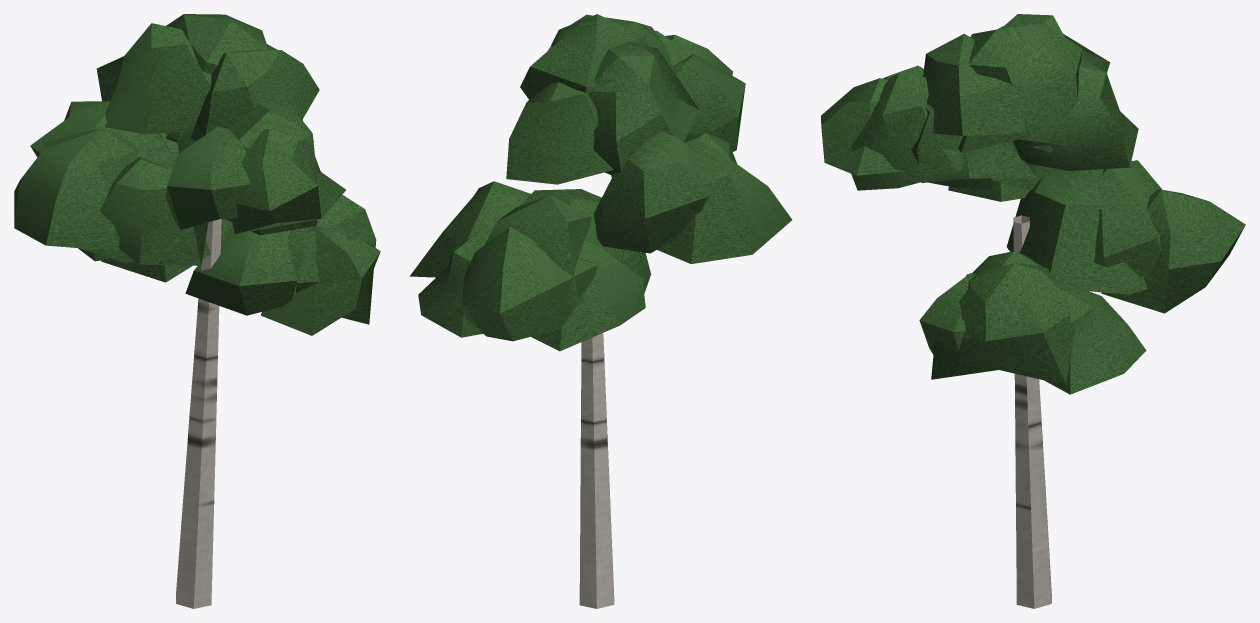
File: ambient_tree_12.glb
3 renders of one model, left to right at view 1: azimuth 30°, elevation 25°; view 2: azimuth 150°, elevation 25°; view 3: azimuth 270°, elevation 25°, orthographic. The views are drawn at different scales.
Visible parts, largest first — view 1: ambient_tree_12; view 2: ambient_tree_12; view 3: ambient_tree_12.
Part boxes in pixels (x1=…): ambient_tree_12: x1=14, y1=14, x2=380, y2=608; ambient_tree_12: x1=409, y1=14, x2=792, y2=608; ambient_tree_12: x1=821, y1=14, x2=1245, y2=608.
Size of the model in its own units: 5.14 by 8.21 by 5.45.
2 materials, 2 textured.
